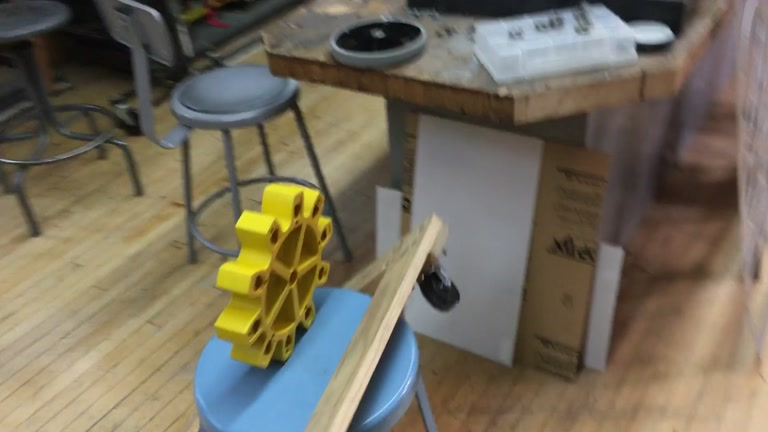gear: (214, 183, 332, 369)
